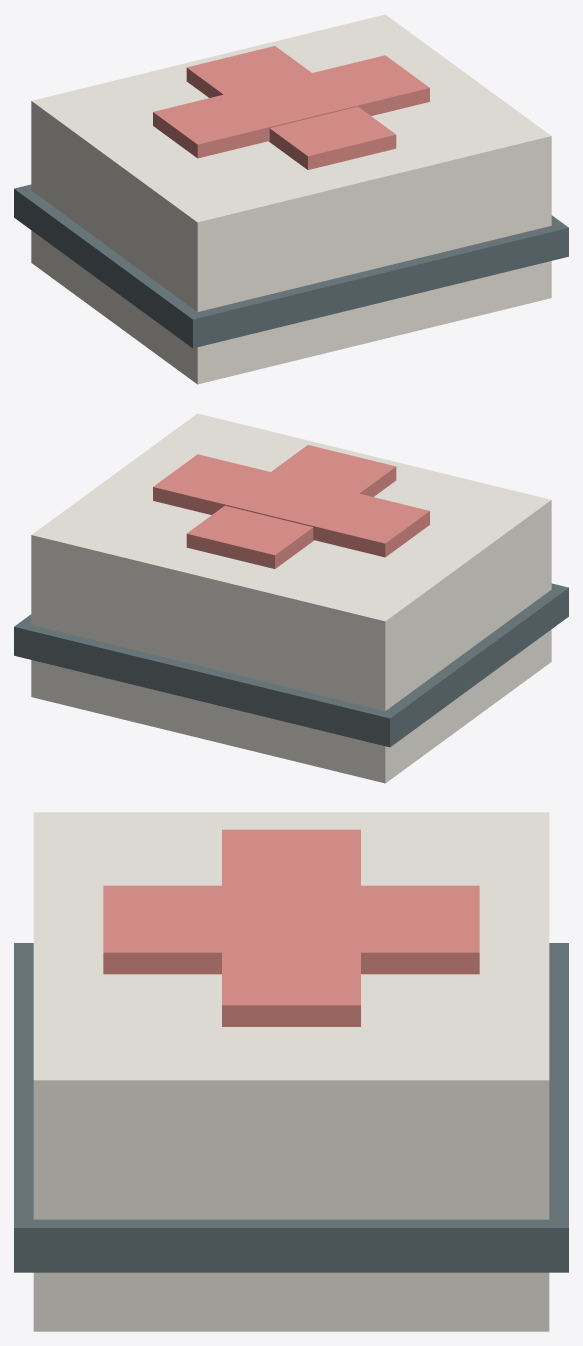
File: health.glb
The picture shows the model from 3 angles, top to bottom: view 1: azimuth 30°, elevation 25°; view 2: azimuth 150°, elevation 25°; view 3: azimuth 270°, elevation 25°; orthographic projection. The views are drawn at different scales.
Parts seen in each view (by area): view 1: static:world-health, static:medkit-cross (×2), static:world-carbon; view 2: static:world-health, static:medkit-cross (×2), static:world-carbon; view 3: static:world-health, static:medkit-cross (×2), static:world-carbon.
Boxes of the visible parts, <box> form: static:world-health: <box>31,14,551,384</box>; static:medkit-cross (×2): <box>153,46,429,169</box>; static:world-carbon: <box>14,184,568,348</box>; static:world-health: <box>31,413,551,783</box>; static:medkit-cross (×2): <box>153,445,429,568</box>; static:world-carbon: <box>14,583,568,747</box>; static:world-health: <box>33,812,549,1331</box>; static:medkit-cross (×2): <box>103,829,479,1026</box>; static:world-carbon: <box>14,943,568,1272</box>.
Size of the model in its own units: 0.34 by 0.156 by 0.28.
